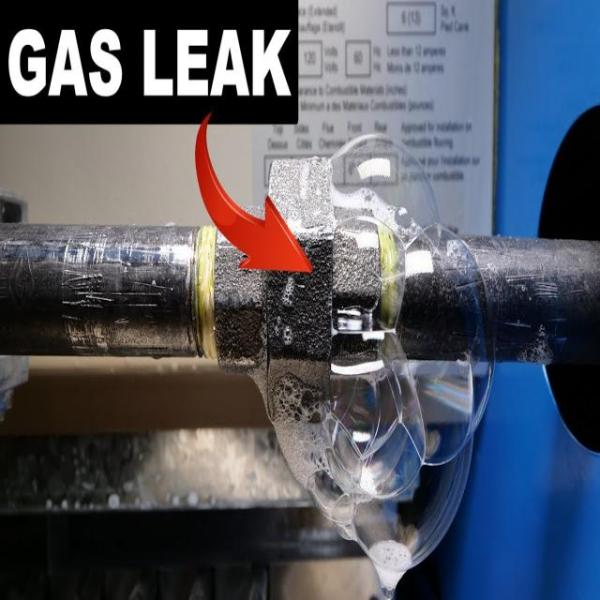gas: (290, 157, 444, 428)
